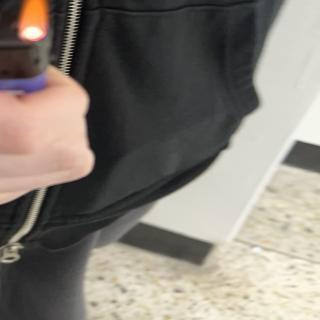fire: (20, 0, 50, 33)
